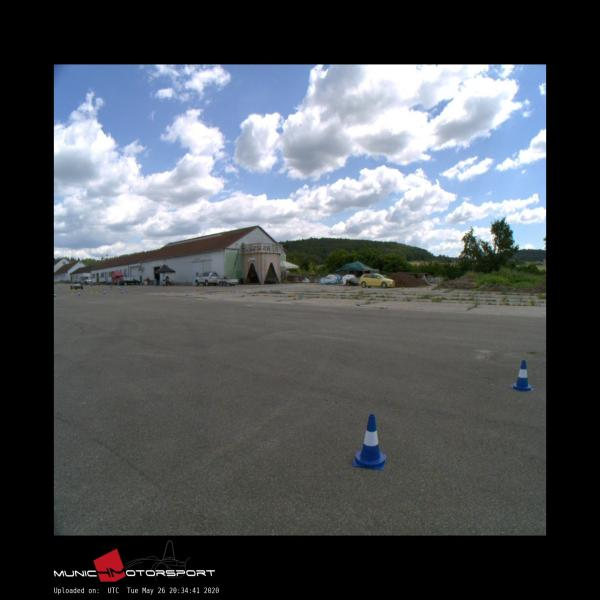blue_cone: (353, 414, 385, 470), (511, 360, 533, 390)
